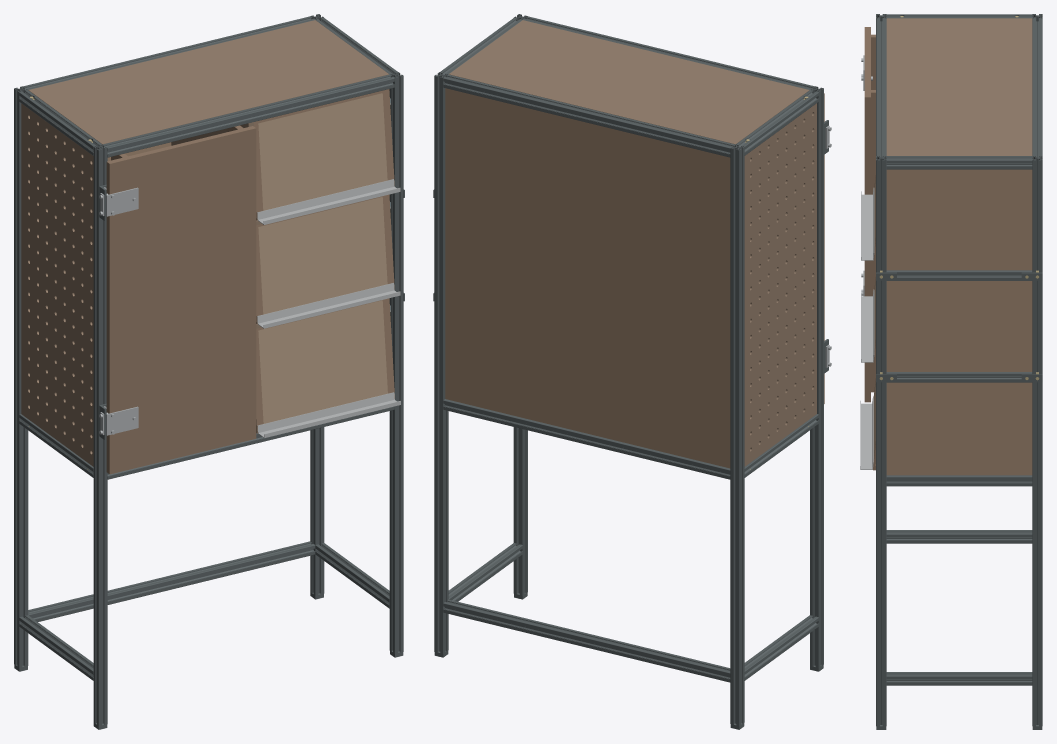
File: cabinet-closed.glb
The picture shows the model from 3 angles, left to right: view 1: azimuth 30°, elevation 25°; view 2: azimuth 150°, elevation 25°; view 3: azimuth 270°, elevation 25°; orthographic projection.
Parts seen in each view (by area): view 1: Door-face-18, Left-pegboard-18, Top-18, Plywood-infill-6-1, Plywood-infill-6-3, Plywood-infill-6-2, Post-4-23, Post-966-23, Post-4-470, Beam-top-front, Beam-lower-rear, Post-966-470 (+15 smaller); view 2: Back-infill-8, Left-pegboard-18, Top-18, Post-4-470, Post-966-470, Post-4-23, Beam-top-rear, Beam-lower-rear, Beam-body-rear, Post-966-23, Beam-top-front, Beam-top-side-4 (+4 smaller); view 3: Top-18, Right-infill-8-3, Right-infill-8-1, Right-infill-8-2, Post-966-23, Post-966-470, Beam-lower-side-4, Beam-lower-side-966, Beam-top-side-966, Beam-body-side-966, Door-face-18, Beam-top-front (+8 smaller).
Boxes of the visible parts, x1,y1,x2,y2 form: Door-face-18: [106, 126, 256, 474]; Left-pegboard-18: [21, 103, 93, 466]; Top-18: [28, 20, 389, 144]; Plywood-infill-6-1: [258, 300, 387, 423]; Plywood-infill-6-3: [258, 93, 387, 210]; Plywood-infill-6-2: [258, 197, 387, 314]; Post-4-23: [93, 144, 107, 726]; Post-966-23: [389, 72, 403, 653]; Post-4-470: [14, 86, 28, 667]; Beam-top-front: [103, 74, 394, 157]; Beam-lower-rear: [28, 541, 315, 621]; Post-966-470: [310, 14, 324, 595]; Back-infill-8: [445, 88, 730, 468]; Left-pegboard-18: [744, 103, 816, 466]; Top-18: [449, 20, 809, 144]; Post-4-470: [730, 144, 744, 726]; Post-966-470: [434, 72, 448, 653]; Post-4-23: [810, 86, 823, 667]; Beam-top-rear: [443, 74, 734, 157]; Beam-lower-rear: [443, 599, 730, 682]; Beam-body-rear: [443, 399, 730, 479]; Post-966-23: [513, 14, 527, 595]; Beam-top-front: [523, 16, 814, 89]; Beam-top-side-4: [736, 90, 818, 155]; Top-18: [886, 18, 1032, 155]; Right-infill-8-3: [886, 169, 1032, 270]; Right-infill-8-1: [886, 382, 1032, 475]; Right-infill-8-2: [886, 281, 1032, 371]; Post-966-23: [876, 156, 886, 726]; Post-966-470: [1032, 156, 1042, 726]; Beam-lower-side-4: [886, 530, 1032, 543]; Beam-lower-side-966: [886, 672, 1032, 685]; Beam-top-side-966: [886, 156, 1032, 169]; Beam-body-side-966: [886, 475, 1032, 486]; Door-face-18: [864, 27, 870, 402]; Beam-top-front: [876, 18, 886, 157].
Size of the model in its own units: 1 by 1.8 by 0.5224.
